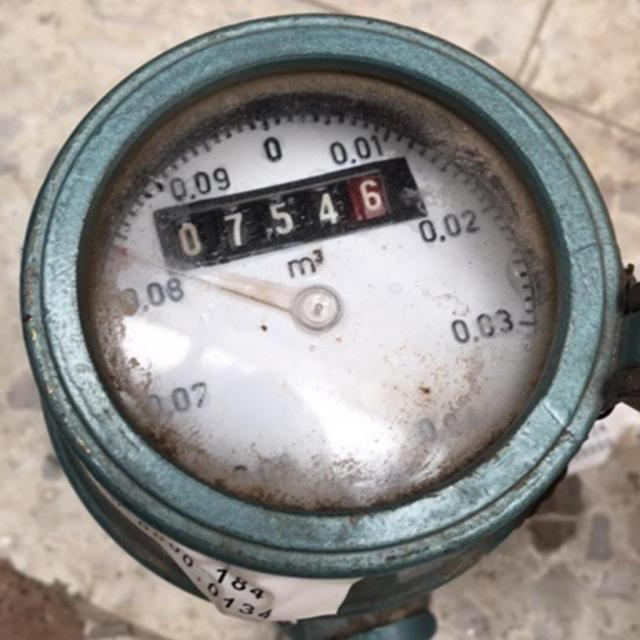gaz_meter: (26, 16, 623, 571)
indication: (152, 154, 428, 276)
